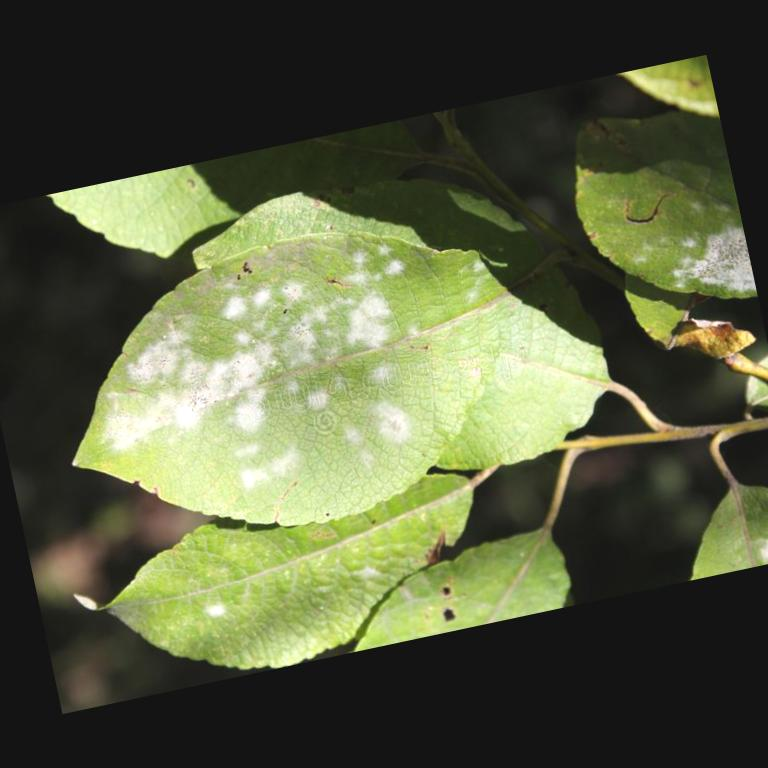powdery-mildew: (159, 264, 395, 394)
